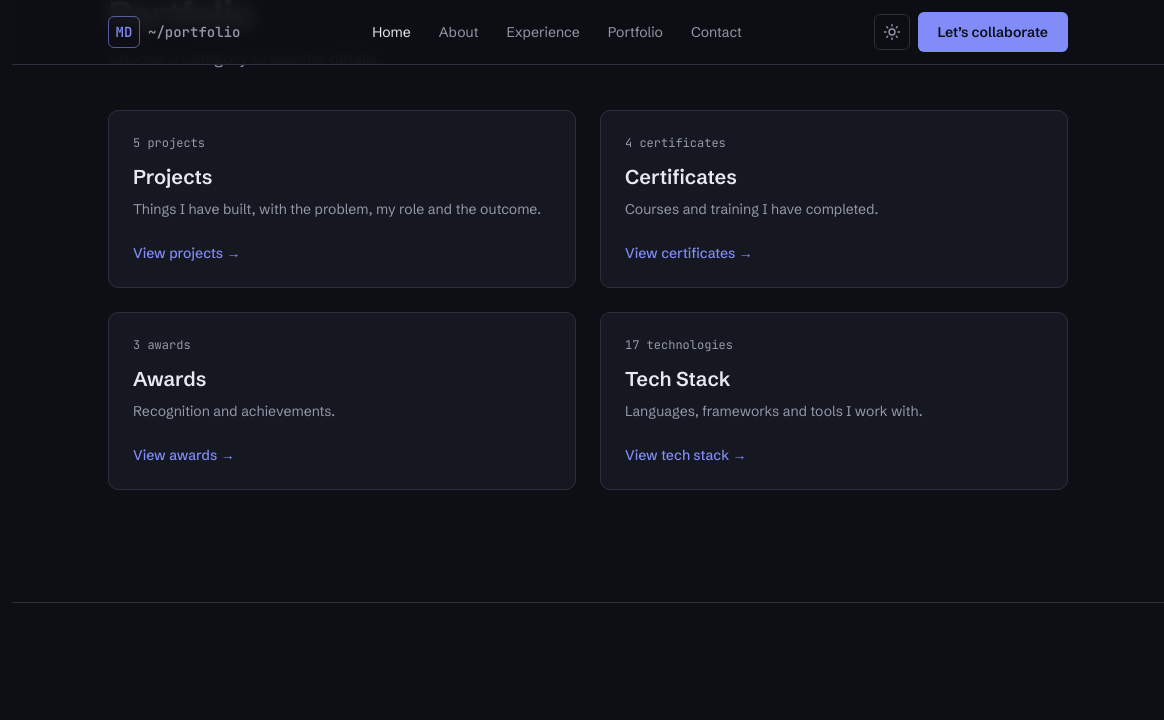
Scenario: home content › Portfolio has 4 categories linking to their detail pages
(page scrolled)
What coordinates should you click on to do the following:
click the link "3 awards Awards Recognition and achievements. View awards →"
I would click on:
 (162, 344)
Its box is [108,312,576,490].
(page scrolled)
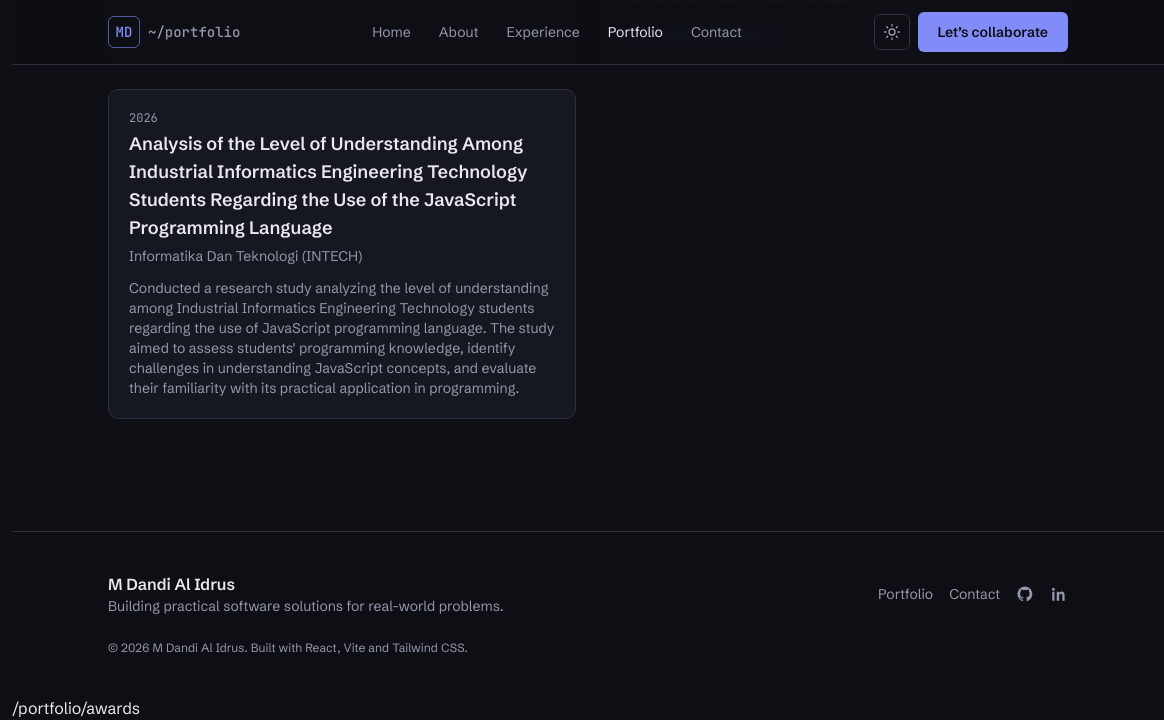
Check: the text with test id "loc" reads "/portfolio/awards", box [12,698,140,718]
